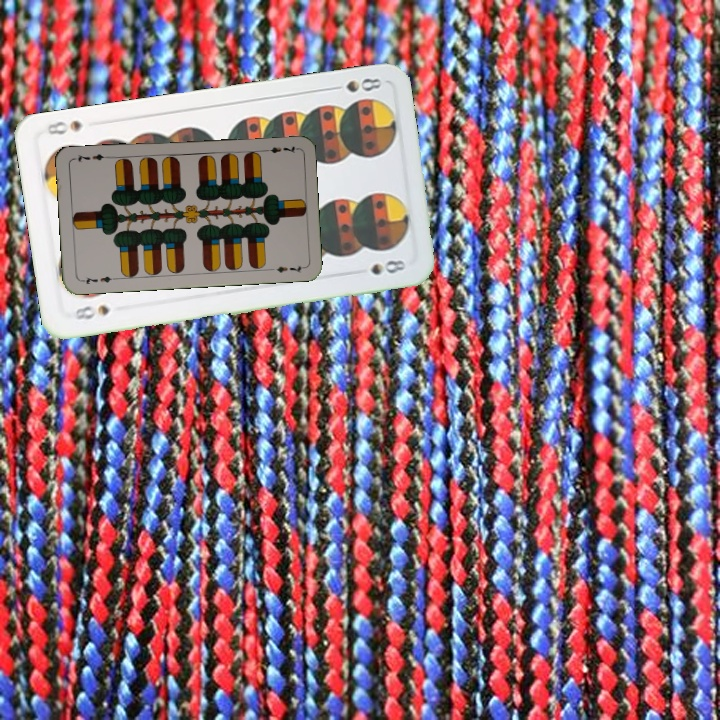E7: (77, 272, 118, 287), (258, 142, 299, 156)
S8: (325, 74, 385, 95), (66, 301, 112, 322)
